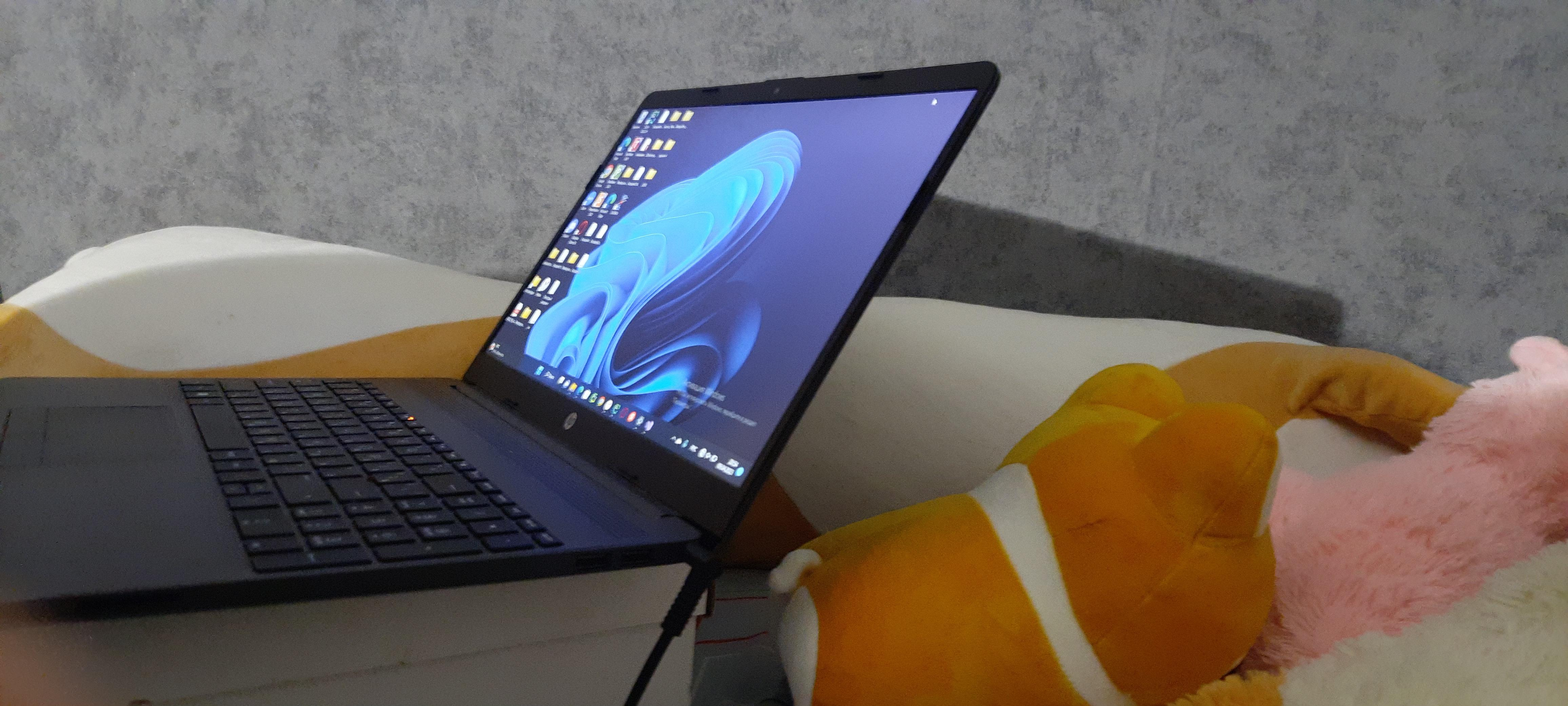monitor: (444, 53, 1009, 554)
